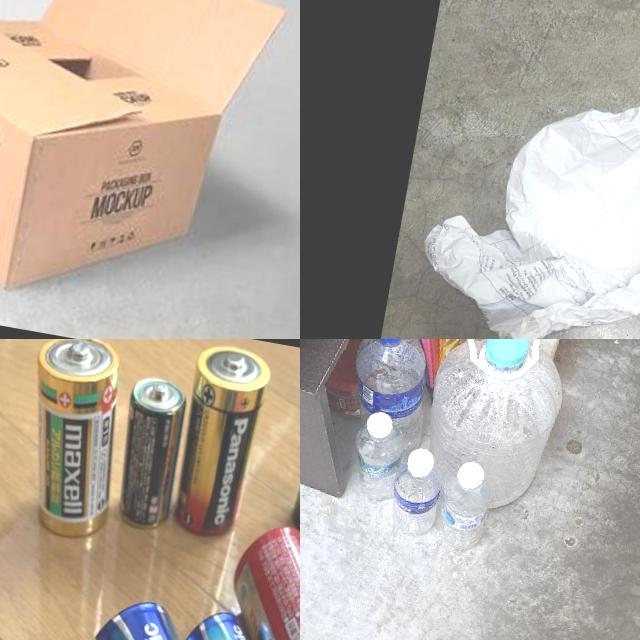bateria: (8, 339, 136, 549), (164, 340, 274, 548), (103, 371, 194, 538), (205, 520, 300, 640)
garrafa plástica: (416, 339, 563, 518), (343, 339, 444, 455), (342, 423, 418, 508), (431, 476, 494, 554), (389, 462, 445, 536)
papel: (405, 60, 640, 339)
papelão: (0, 0, 292, 329)
tampa plástica: (480, 339, 533, 375), (404, 439, 441, 482), (362, 404, 397, 442), (454, 458, 488, 492), (372, 339, 406, 349)
